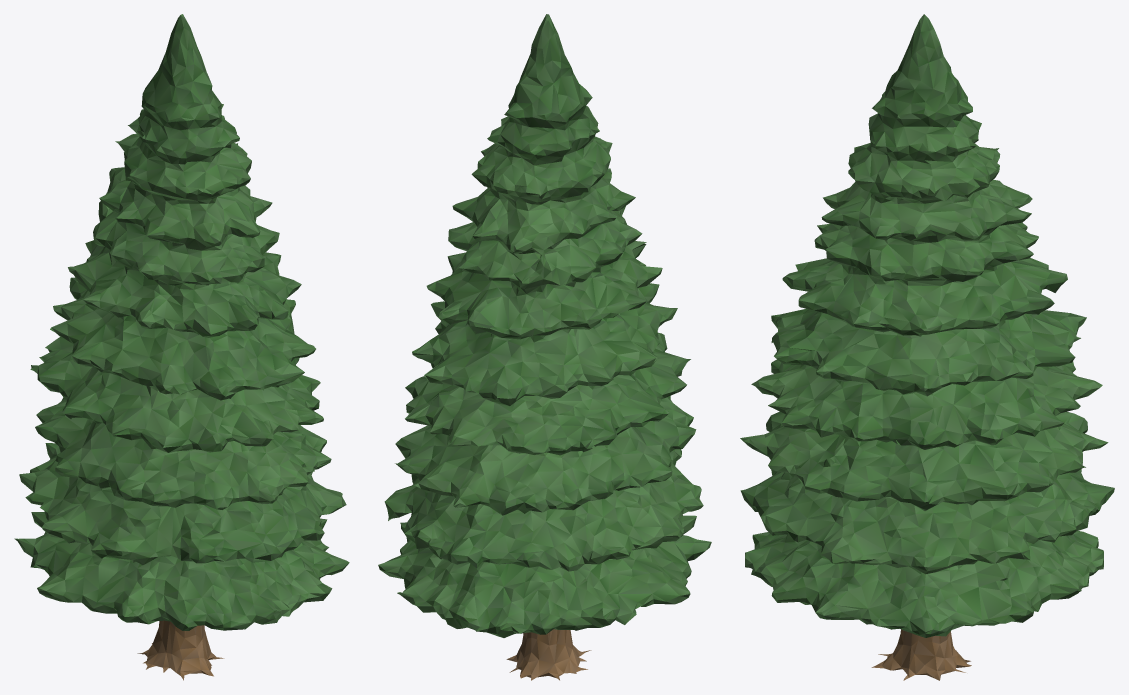
Rendered from pine_tree.glb.
3 renders of one model, left to right at view 1: azimuth 30°, elevation 25°; view 2: azimuth 150°, elevation 25°; view 3: azimuth 270°, elevation 25°, orthographic.
Parts seen in each view (by area): view 1: world; view 2: world; view 3: world.
Boxes of the visible parts, x1,y1,x2,y2 form: world: (14, 14, 349, 680); world: (378, 14, 711, 680); world: (740, 14, 1114, 680).
Bounding box in the file's own units: 2.25 × 4.8 × 2.51.
